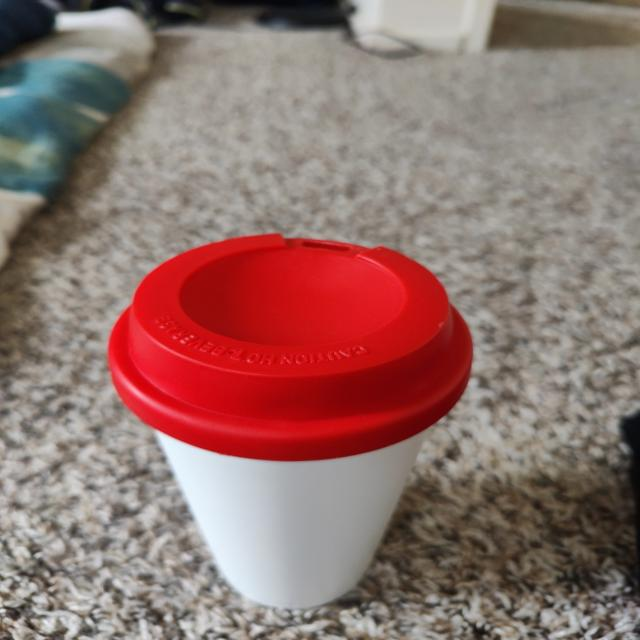mug: (109, 229, 458, 606)
